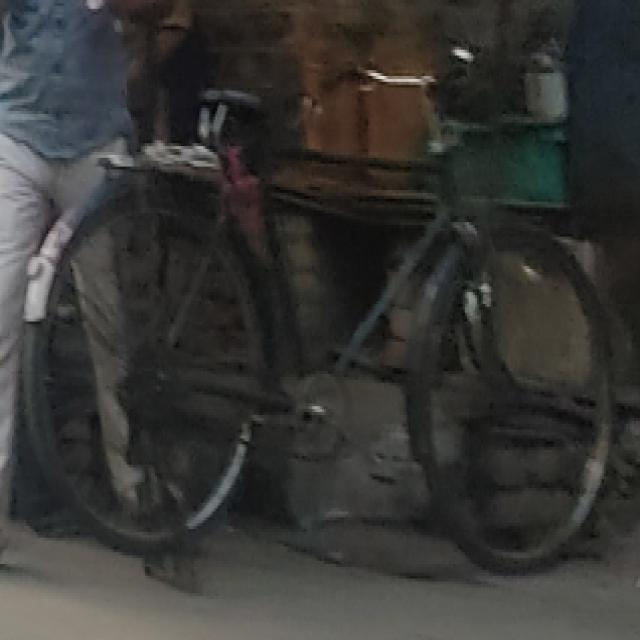bicycle: (12, 40, 618, 571)
